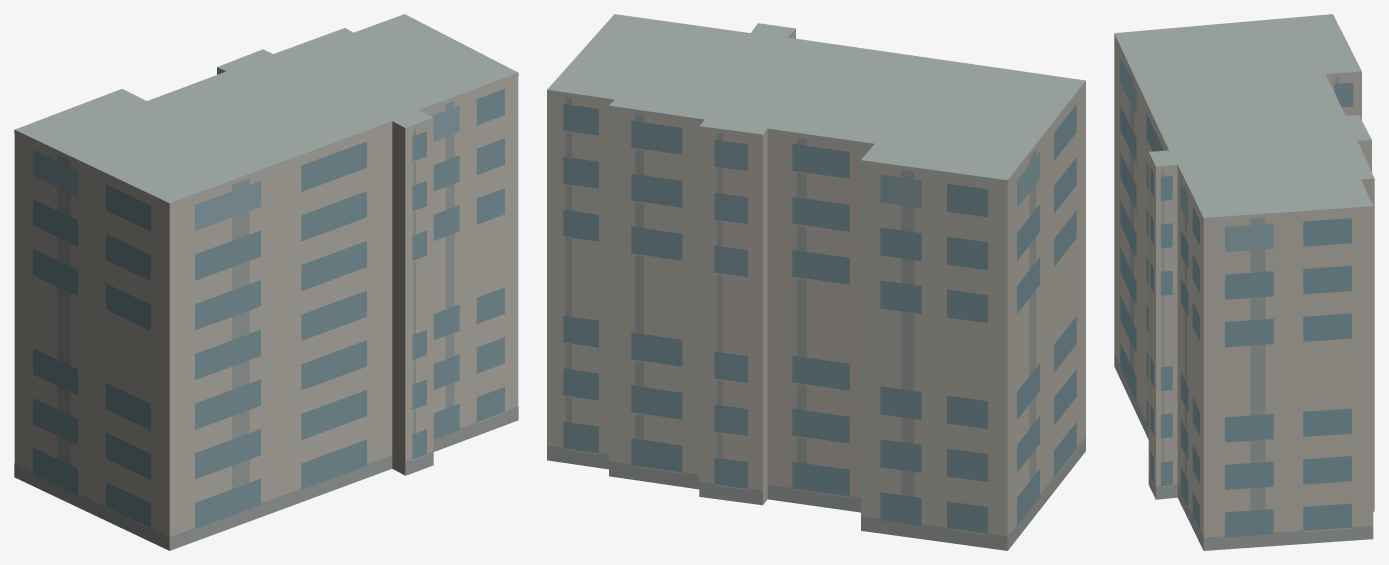
Rendered from survey-upis-32561742.glb.
3 views of the same model, side by side, from view 1: azimuth 30°, elevation 25°; view 2: azimuth 150°, elevation 25°; view 3: azimuth 270°, elevation 25° (orthographic). The views are drawn at different scales.
Visible parts, largest first — view 1: survey-upis-32561742.tmp; view 2: survey-upis-32561742.tmp; view 3: survey-upis-32561742.tmp.
Boxes of the visible parts, x1,y1,x2,y2 form: survey-upis-32561742.tmp: (14,14,518,550); survey-upis-32561742.tmp: (547,14,1085,550); survey-upis-32561742.tmp: (1114,14,1374,550).
Bounding box in the file's own units: 25.76 × 19.6 × 13.9.
